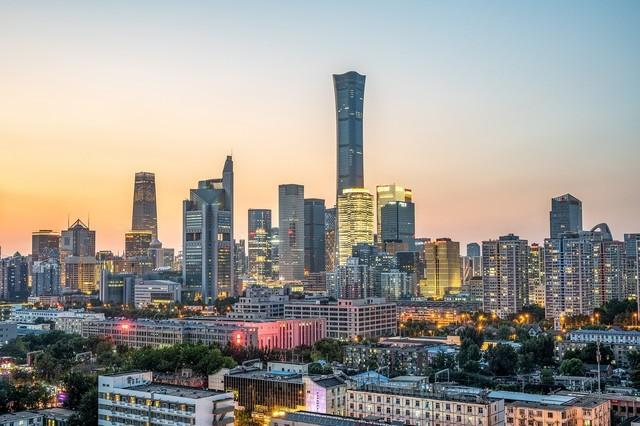buildings: (321, 63, 383, 310), (533, 172, 622, 333), (179, 154, 247, 310), (470, 224, 538, 324), (122, 158, 169, 298), (276, 179, 328, 299), (412, 236, 473, 326), (45, 211, 100, 308)
